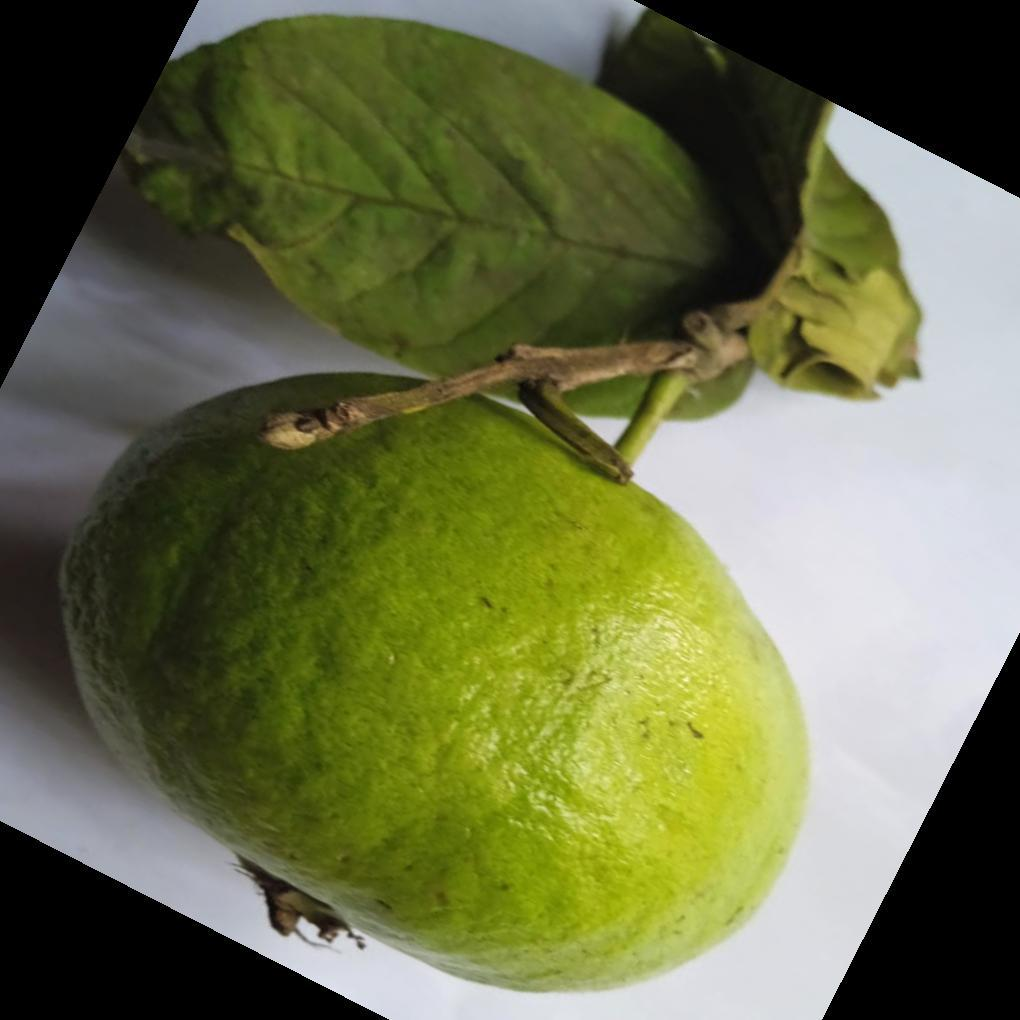FreshGuava: (56, 373, 813, 996)
